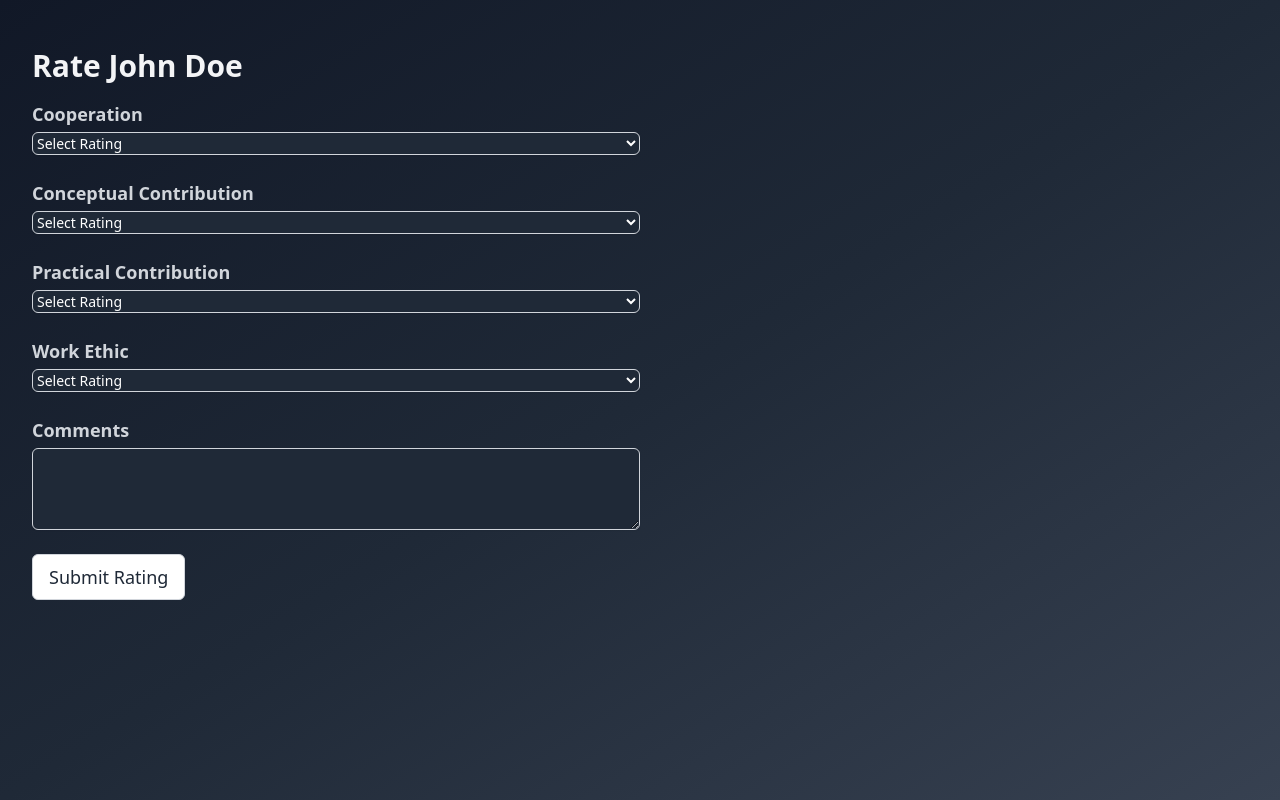
Test: PeerRating Component › displays an error if ratings are not selected
Click the button "Submit Rating". click: (109, 577)
box: [32, 554, 185, 600]
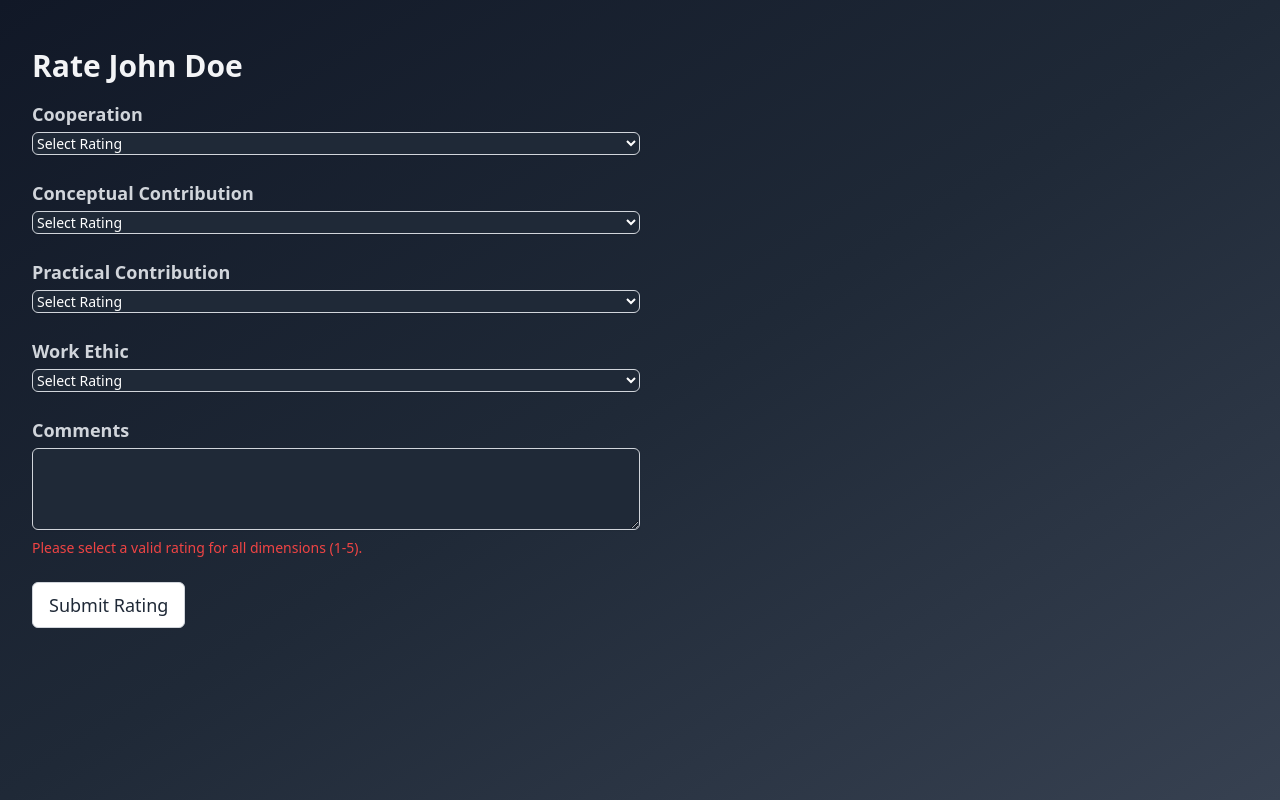
Check: the text "Please select a valid rating for all dimensions (1-5)." is shown, box [32, 538, 362, 557]
